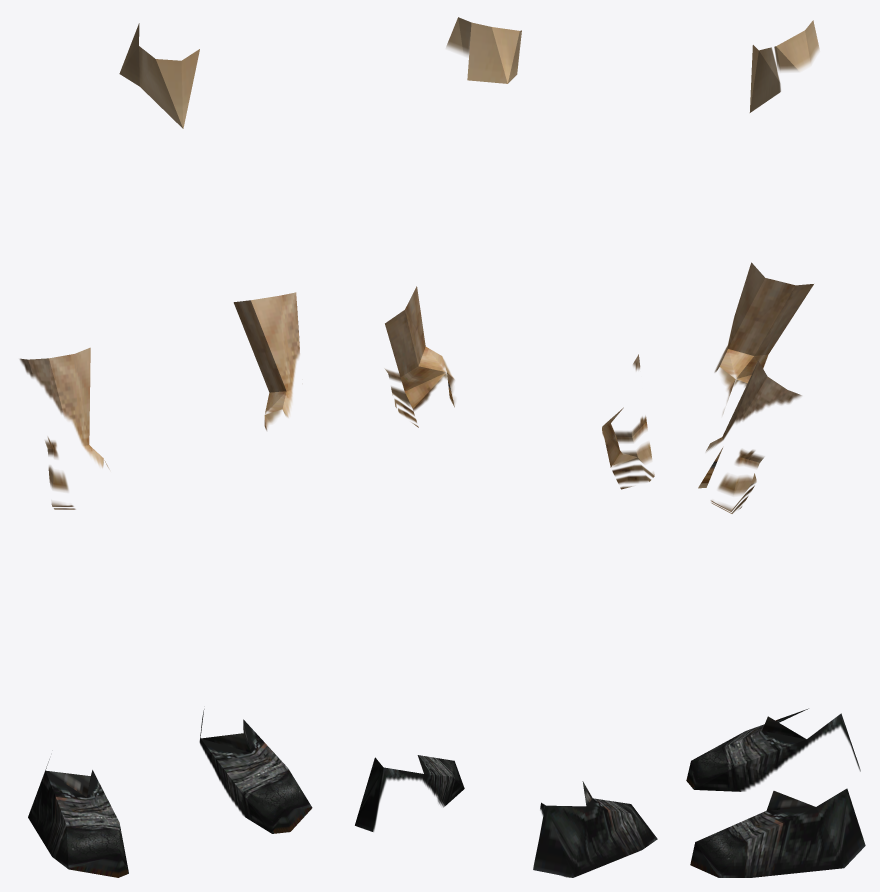
Rendered from Armor_KDW_L_Addon.glb.
3 renders of one model, left to right at view 1: azimuth 30°, elevation 25°; view 2: azimuth 150°, elevation 25°; view 3: azimuth 270°, elevation 25°, orthographic. The views are drawn at different scales.
Visible parts, largest first — view 1: Armor_KDW_L_Addonzm_Body; view 2: Armor_KDW_L_Addonzm_Body; view 3: Armor_KDW_L_Addonzm_Body.
Boxes of the visible parts, left/top/right/bottom form: Armor_KDW_L_Addonzm_Body: left=19, top=23, right=312, bottom=877; Armor_KDW_L_Addonzm_Body: left=355, top=17, right=657, bottom=877; Armor_KDW_L_Addonzm_Body: left=686, top=20, right=865, bottom=877.
Size of the model in its own units: 0.5964 by 1.66 by 0.3325.
1 material, 1 textured.
